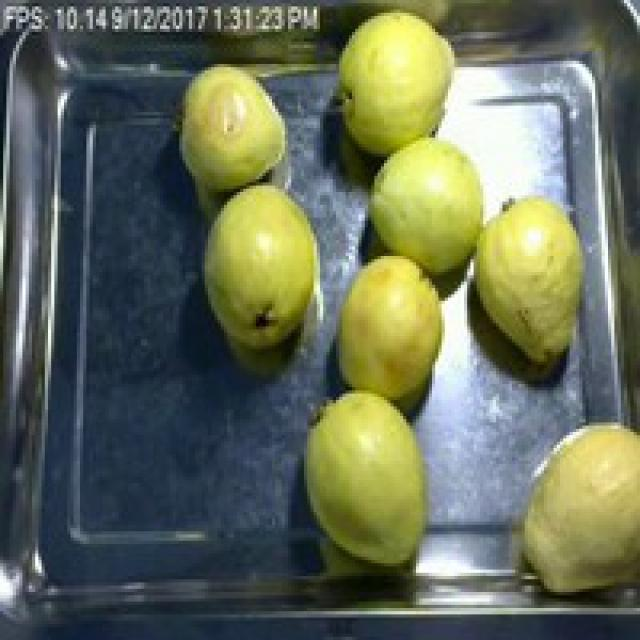Fruit: (454, 180, 605, 390), (291, 378, 445, 576), (502, 400, 640, 611), (192, 173, 333, 368), (320, 243, 461, 429), (355, 125, 506, 294), (332, 0, 470, 182), (166, 55, 301, 202)
